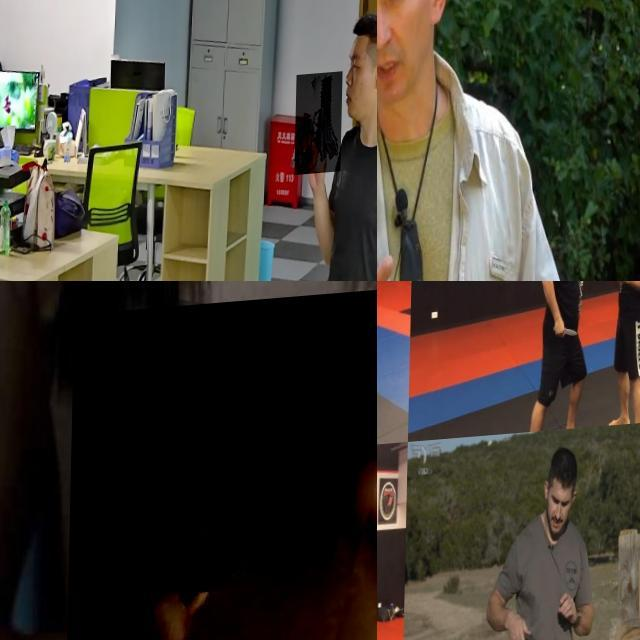-: (66, 296, 377, 640), (377, 281, 390, 317), (554, 333, 582, 349), (512, 631, 552, 640)
gun-knife-thesis - v11 Yolov5 augmented: (296, 78, 343, 180)
